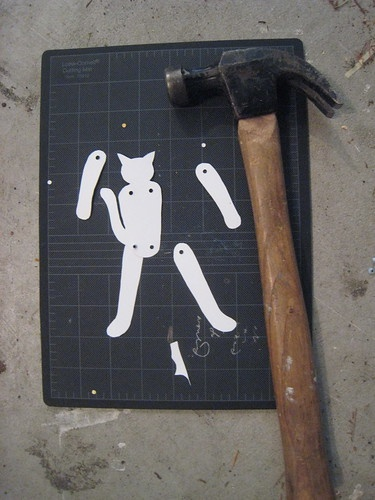hammer: (164, 47, 360, 500)
